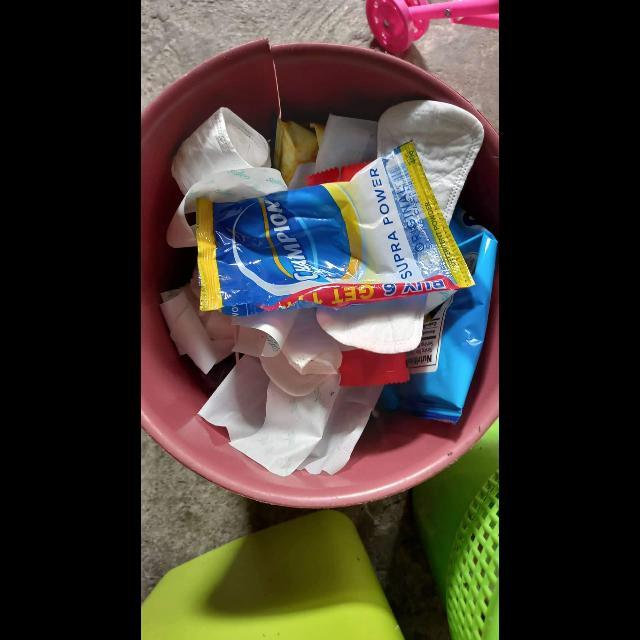food_wrapper: (375, 206, 499, 425)
plastic_sachet: (197, 139, 477, 315)
